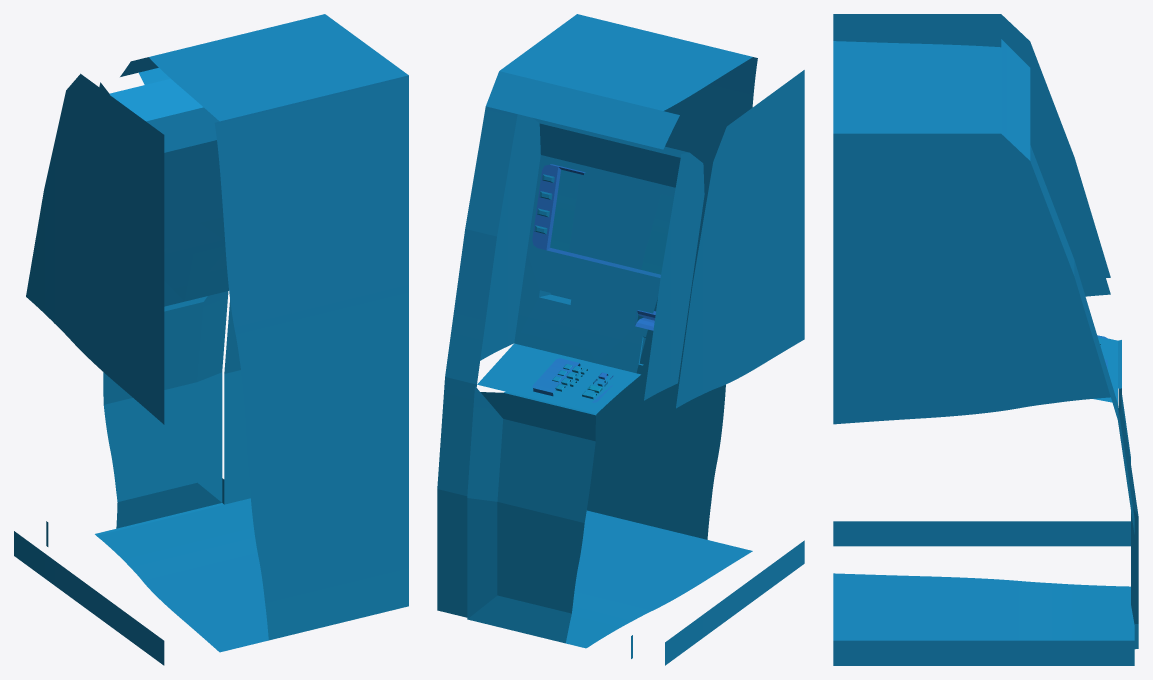
Rendered from atm.obj.
3 renders of one model, left to right at view 1: azimuth 30°, elevation 25°; view 2: azimuth 150°, elevation 25°; view 3: azimuth 270°, elevation 25°, orthographic. The views are drawn at different scales.
Visible parts, largest first — view 1: atm; view 2: atm; view 3: atm.
Boxes of the visible parts, x1,y1,x2,y2 form: atm: [14, 14, 408, 665]; atm: [437, 14, 804, 665]; atm: [833, 14, 1138, 665].
Size of the model in its own units: 0.9956 by 2.07 by 1.08.
